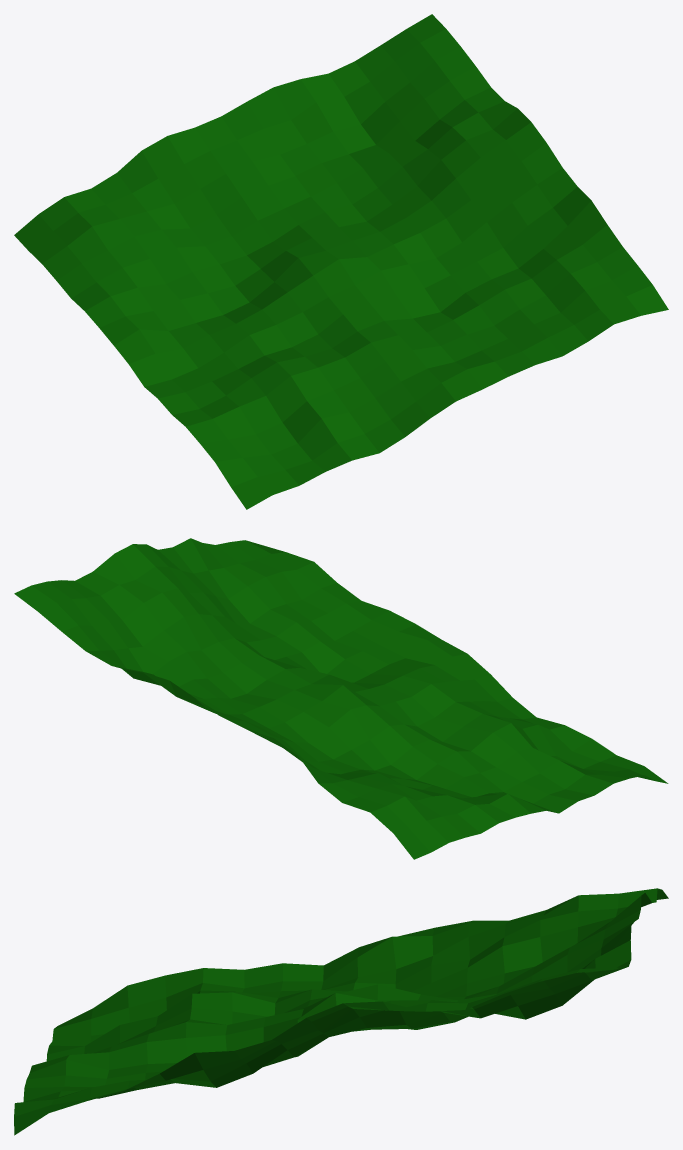
File: JARDIM SEM FLOR.fbx
3 renders of one model, top to bottom at view 1: azimuth 30°, elevation 25°; view 2: azimuth 150°, elevation 25°; view 3: azimuth 270°, elevation 25°, orthographic. The views are drawn at different scales.
Parts seen in each view (by area): view 1: Plane; view 2: Plane; view 3: Plane.
Part boxes in pixels (x1,y1,x2,y2): Plane: (14,14,668,509); Plane: (14,538,668,859); Plane: (14,888,668,1135).
Size of the model in its own units: 1255 by 700 by 1341.
